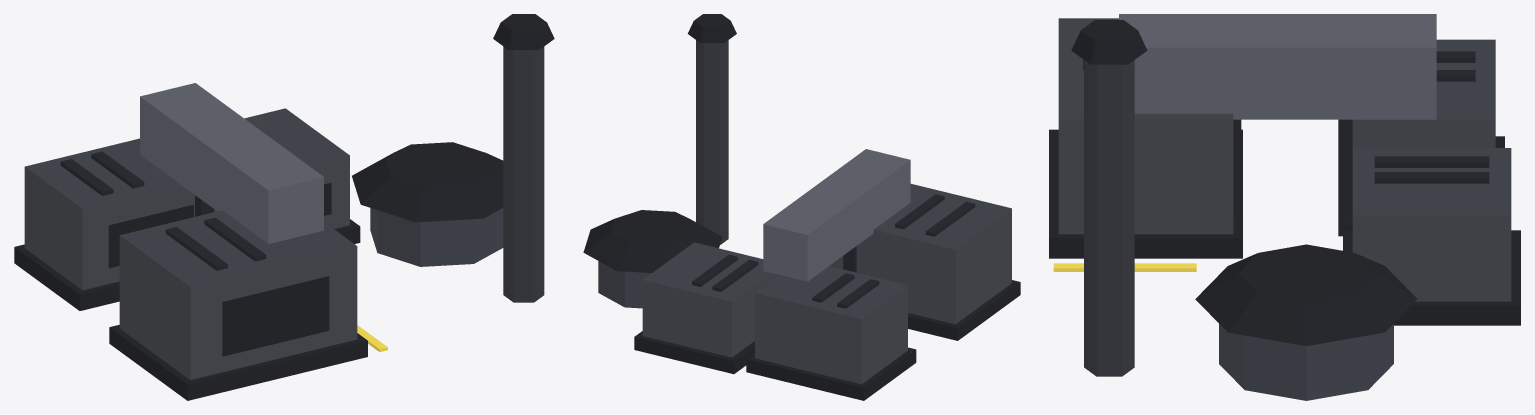
Rendered from mc-rooftop_plant.glb.
The picture shows the model from 3 angles, left to right: view 1: azimuth 30°, elevation 25°; view 2: azimuth 150°, elevation 25°; view 3: azimuth 270°, elevation 25°; orthographic projection. The views are drawn at different scales.
Parts seen in each view (by area): view 1: prop_rooftop_plant; view 2: prop_rooftop_plant; view 3: prop_rooftop_plant.
Part boxes in pixels (x1=…): prop_rooftop_plant: x1=14, y1=14, x2=554, y2=400; prop_rooftop_plant: x1=583, y1=14, x2=1020, y2=400; prop_rooftop_plant: x1=1049, y1=14, x2=1520, y2=400.
Bounding box in the file's own units: 3.89 × 2.34 × 2.97.
Materials: 1 (1 with a texture image).
